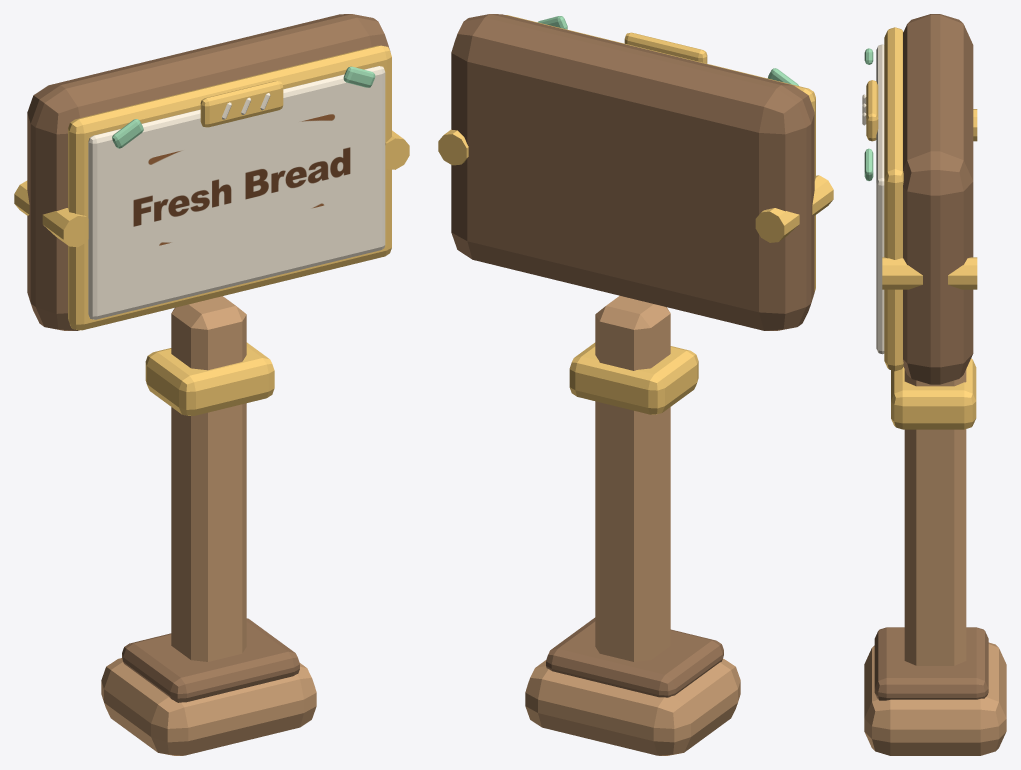
File: asset.glb
3 views of the same model, side by side, from view 1: azimuth 30°, elevation 25°; view 2: azimuth 150°, elevation 25°; view 3: azimuth 270°, elevation 25° (orthographic). The views are drawn at different scales.
Parts seen in each view (by area): view 1: Cream sign face, Sturdy square post, Outer toasted sign frame, Honey wood inset rim, Broad grounded foot, Foot toasted trim, Post collar, Painted Fresh Bread label, Golden loaf motif, Frame peg, Frame peg.001; view 2: Outer toasted sign frame, Sturdy square post, Broad grounded foot, Foot toasted trim, Post collar, Frame peg, Golden loaf motif, Frame peg.001, Honey wood inset rim; view 3: Outer toasted sign frame, Sturdy square post, Broad grounded foot, Foot toasted trim, Honey wood inset rim, Post collar, Cream sign face, Frame peg.001, Golden loaf motif, Mint corner leaf.001.
Part boxes in pixels (x1=…): Cream sign face: x1=88, y1=66, x2=385, y2=319; Sturdy square post: x1=171, y1=296, x2=246, y2=661; Outer toasted sign frame: x1=27, y1=14, x2=390, y2=330; Honey wood inset rim: x1=68, y1=45, x2=391, y2=330; Broad grounded foot: x1=101, y1=658, x2=316, y2=755; Foot toasted trim: x1=122, y1=618, x2=299, y2=702; Post collar: x1=145, y1=342, x2=274, y2=415; Painted Fresh Bread label: x1=133, y1=114, x2=350, y2=245; Golden loaf motif: x1=200, y1=81, x2=283, y2=127; Frame peg: x1=14, y1=180, x2=88, y2=247; Frame peg.001: x1=385, y1=130, x2=409, y2=169; Outer toasted sign frame: x1=451, y1=14, x2=814, y2=330; Sturdy square post: x1=595, y1=296, x2=670, y2=661; Broad grounded foot: x1=525, y1=658, x2=740, y2=755; Foot toasted trim: x1=546, y1=617, x2=723, y2=697; Post collar: x1=569, y1=342, x2=698, y2=414; Frame peg: x1=755, y1=175, x2=833, y2=242; Golden loaf motif: x1=624, y1=32, x2=707, y2=63; Frame peg.001: x1=438, y1=129, x2=468, y2=165; Honey wood inset rim: x1=506, y1=15, x2=815, y2=291; Outer toasted sign frame: x1=903, y1=14, x2=973, y2=384; Sturdy square post: x1=904, y1=369, x2=966, y2=665; Broad grounded foot: x1=864, y1=642, x2=1006, y2=755; Foot toasted trim: x1=874, y1=627, x2=988, y2=700; Honey wood inset rim: x1=884, y1=27, x2=903, y2=371; Post collar: x1=891, y1=358, x2=976, y2=429; Cream sign face: x1=876, y1=44, x2=884, y2=354; Frame peg.001: x1=882, y1=257, x2=977, y2=289; Golden loaf motif: x1=866, y1=80, x2=878, y2=141; Mint corner leaf.001: x1=864, y1=148, x2=873, y2=180.
Bounding box in the file's own units: 0.82 × 1.5 × 0.304.
Materials: 6 (1 with a texture image).
